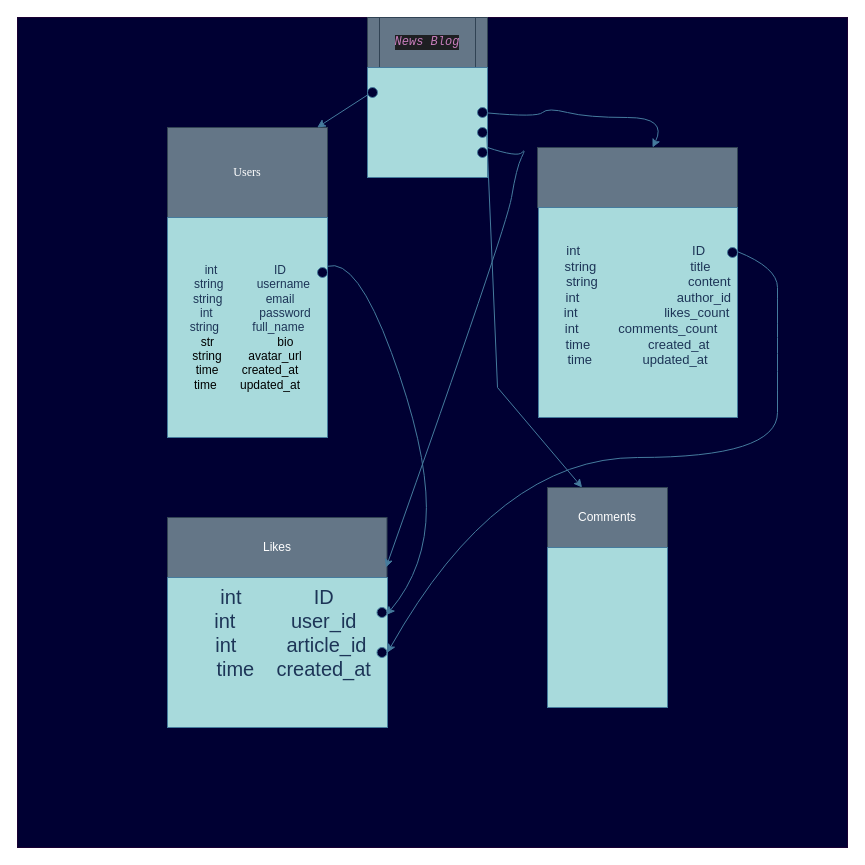
This 865x865 diagram has some shape labels left out. Each missing label, with the centre of its shape:
Articles: (x=637, y=177)
int ID str content int author_id int article_id time created_at time updated_at: (x=607, y=627)
Users Articles Comments Likes: (x=427, y=122)
